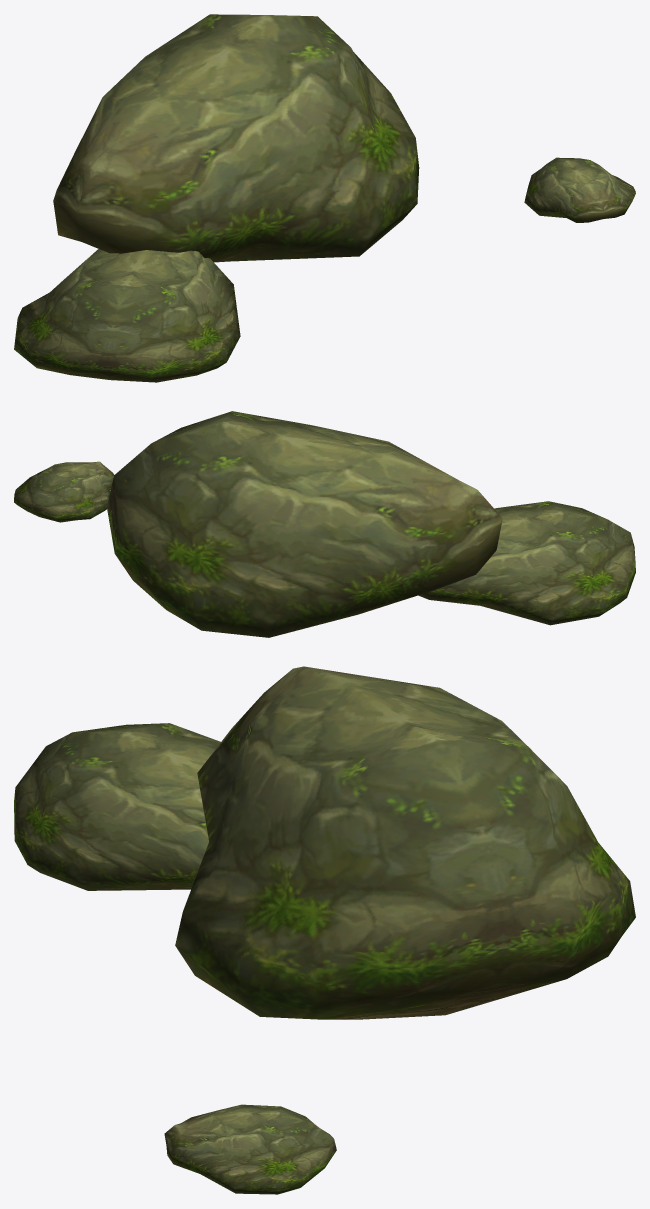
File: environment_stone_yewai_004.FBX
3 renders of one model, top to bottom at view 1: azimuth 30°, elevation 25°; view 2: azimuth 150°, elevation 25°; view 3: azimuth 270°, elevation 25°, orthographic. The views are drawn at different scales.
Parts seen in each view (by area): view 1: environment_stone_yewai_004, environment_stone_yewai_004_01, environment_stone_yewai_004_02; view 2: environment_stone_yewai_004, environment_stone_yewai_004_01, environment_stone_yewai_004_02; view 3: environment_stone_yewai_004, environment_stone_yewai_004_01, environment_stone_yewai_004_02.
Part boxes in pixels (x1,y1,x2,y2): environment_stone_yewai_004: (53, 14, 419, 262); environment_stone_yewai_004_01: (14, 249, 240, 382); environment_stone_yewai_004_02: (524, 157, 635, 222); environment_stone_yewai_004: (107, 411, 502, 637); environment_stone_yewai_004_01: (418, 501, 635, 625); environment_stone_yewai_004_02: (14, 461, 113, 522); environment_stone_yewai_004: (175, 666, 635, 1019); environment_stone_yewai_004_01: (14, 723, 220, 890); environment_stone_yewai_004_02: (164, 1104, 336, 1194).
Bounding box in the file's own units: 438 × 277 × 138.
Materials: 1 (1 with a texture image).
